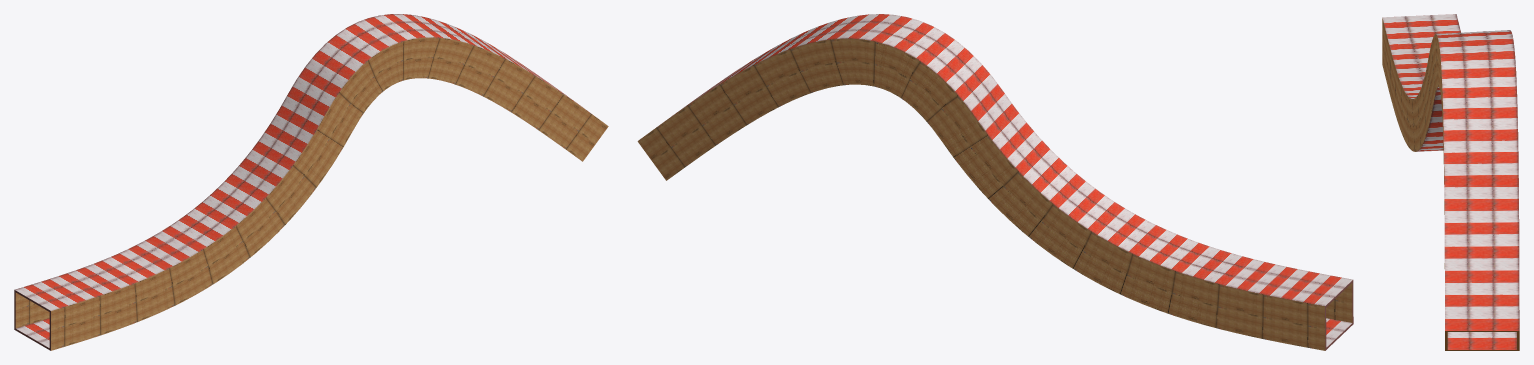
File: SAMRTrack-23.fbx
The picture shows the model from 3 angles, left to right: view 1: azimuth 30°, elevation 25°; view 2: azimuth 150°, elevation 25°; view 3: azimuth 270°, elevation 25°; orthographic projection. The views are drawn at different scales.
Visible parts, largest first — view 1: SAMRTrack-23; view 2: SAMRTrack-23; view 3: SAMRTrack-23.
Part boxes in pixels (x1=…): SAMRTrack-23: x1=14, y1=14, x2=608, y2=350; SAMRTrack-23: x1=637, y1=14, x2=1353, y2=350; SAMRTrack-23: x1=1382, y1=14, x2=1519, y2=350.
Size of the model in its own units: 401 by 131 by 67.47.
Materials: 2 (2 with a texture image).
